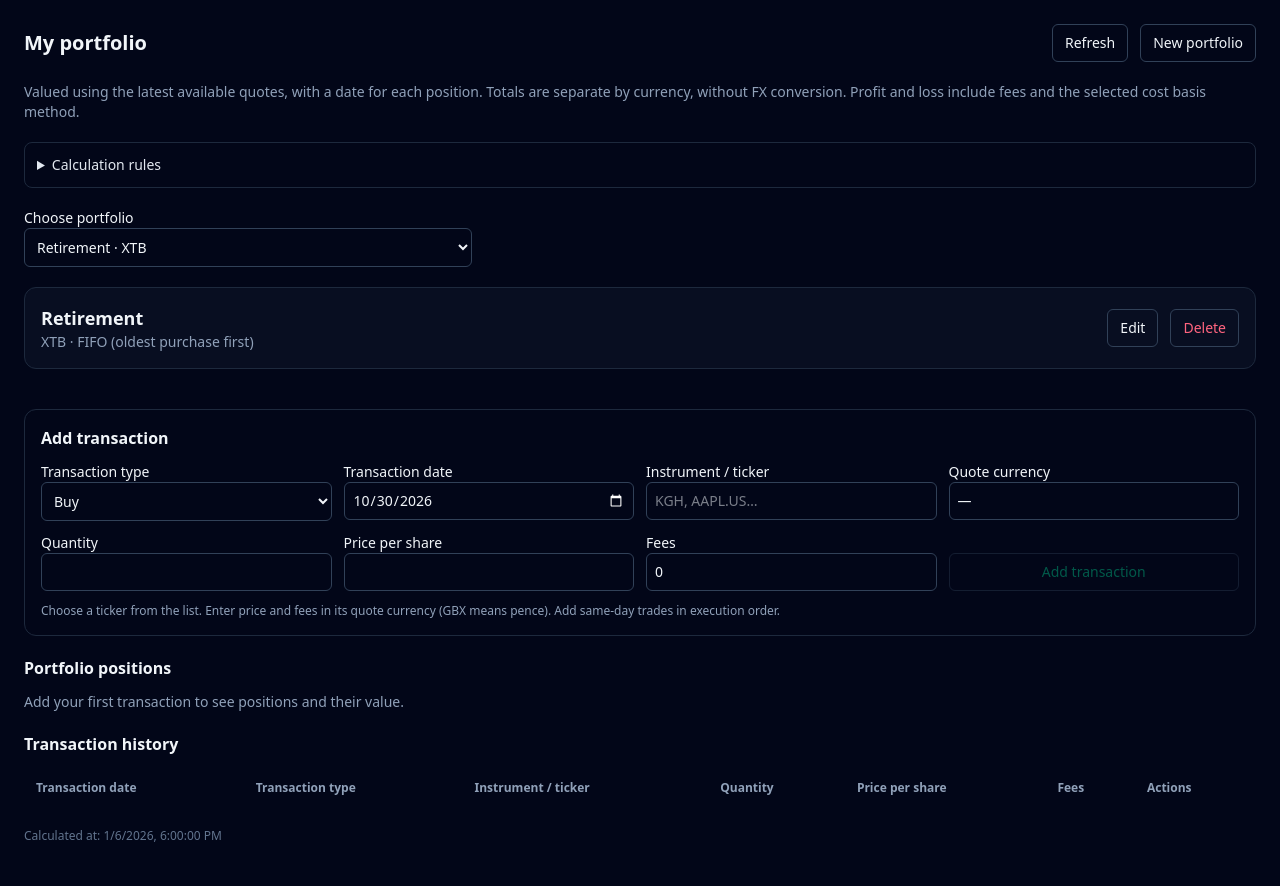
account portfolios › blocks writes when reloading a saved change fails, without reporting the write as failed
This screenshot has width=1280, height=886.
Type "kgh" into the field labelled "Instrument / ticker".
click(791, 501); type("kgh")  # box [646, 482, 936, 520]
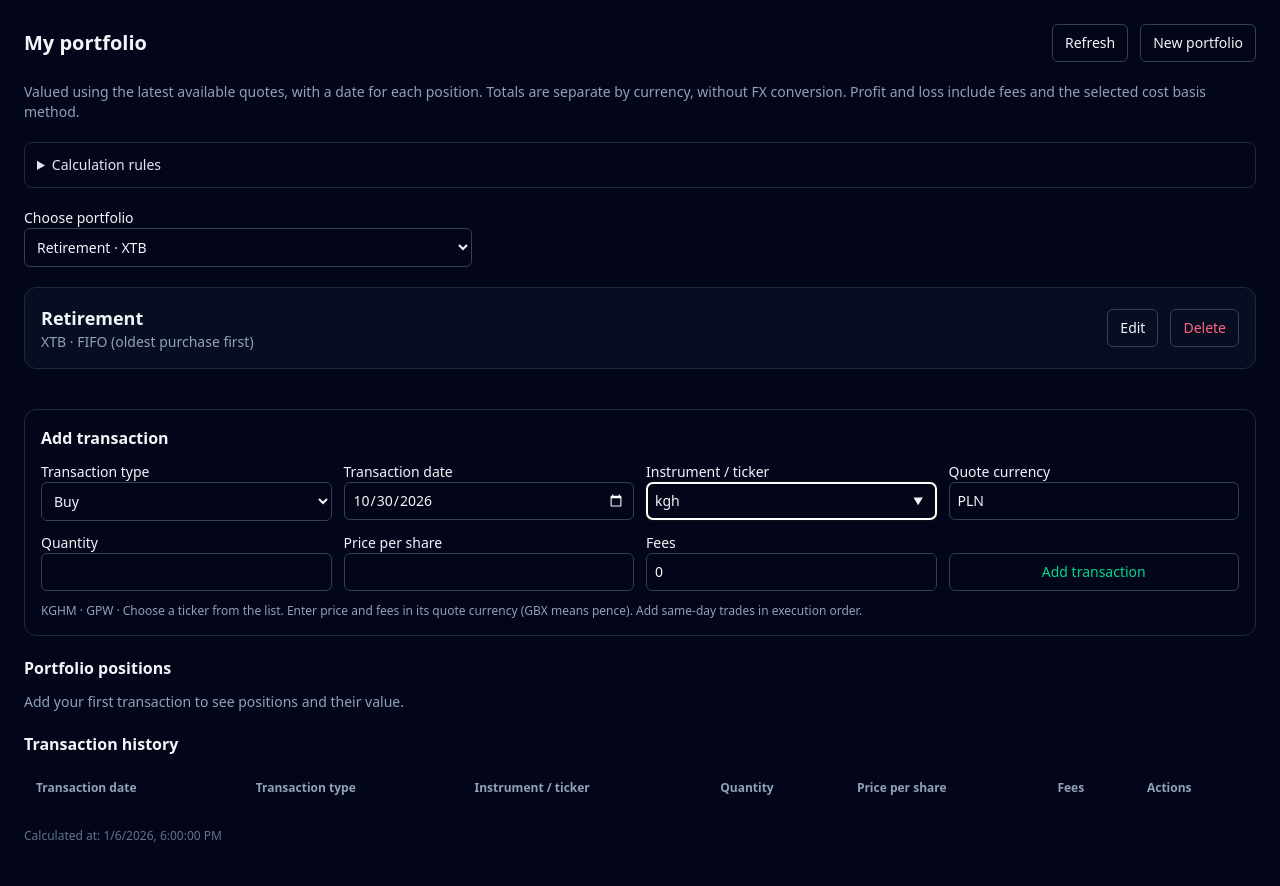
Type "2" into the number field labelled "Quantity".
click(186, 572); type("2")  # box [41, 553, 332, 591]
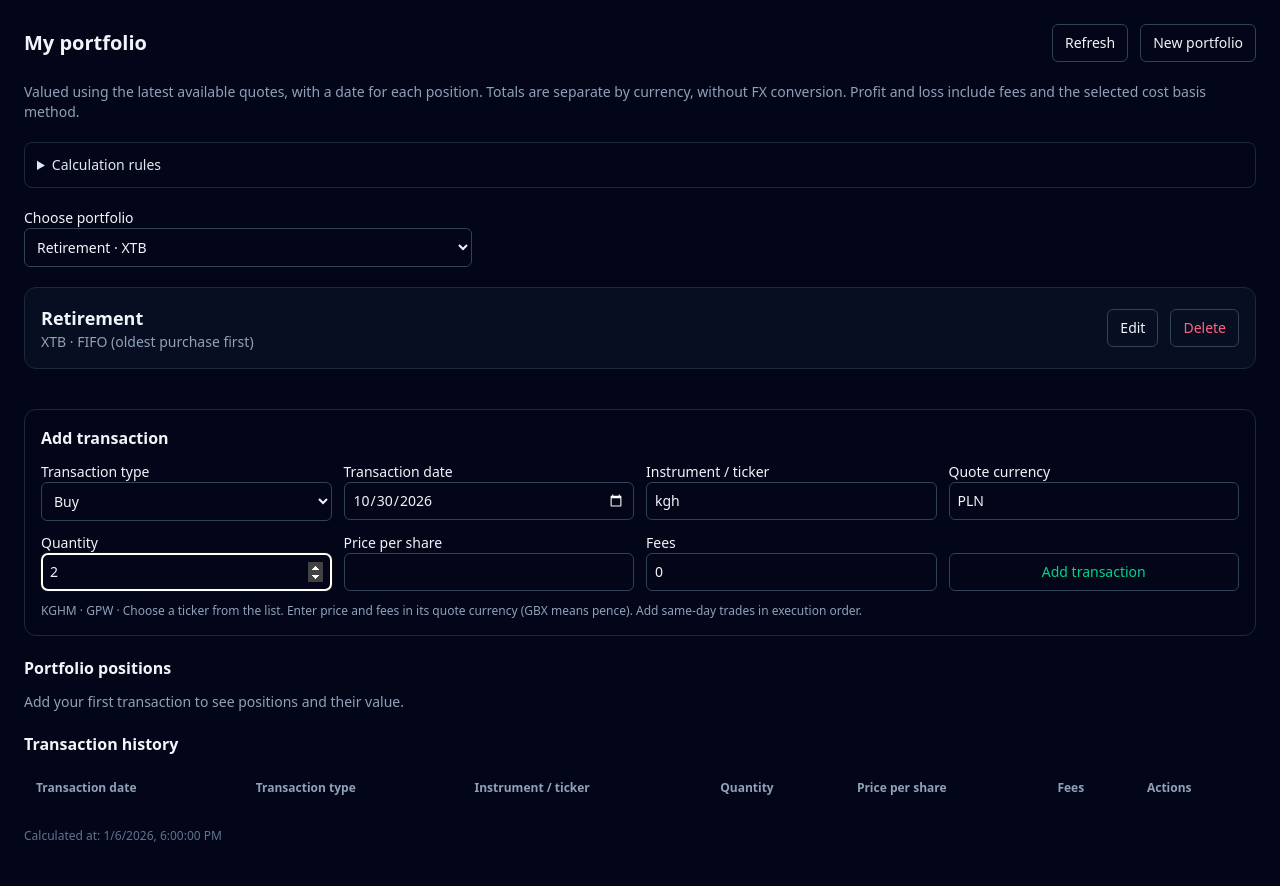
Type "100" into the number field labelled "Price per share".
click(489, 572); type("100")  # box [344, 553, 634, 591]
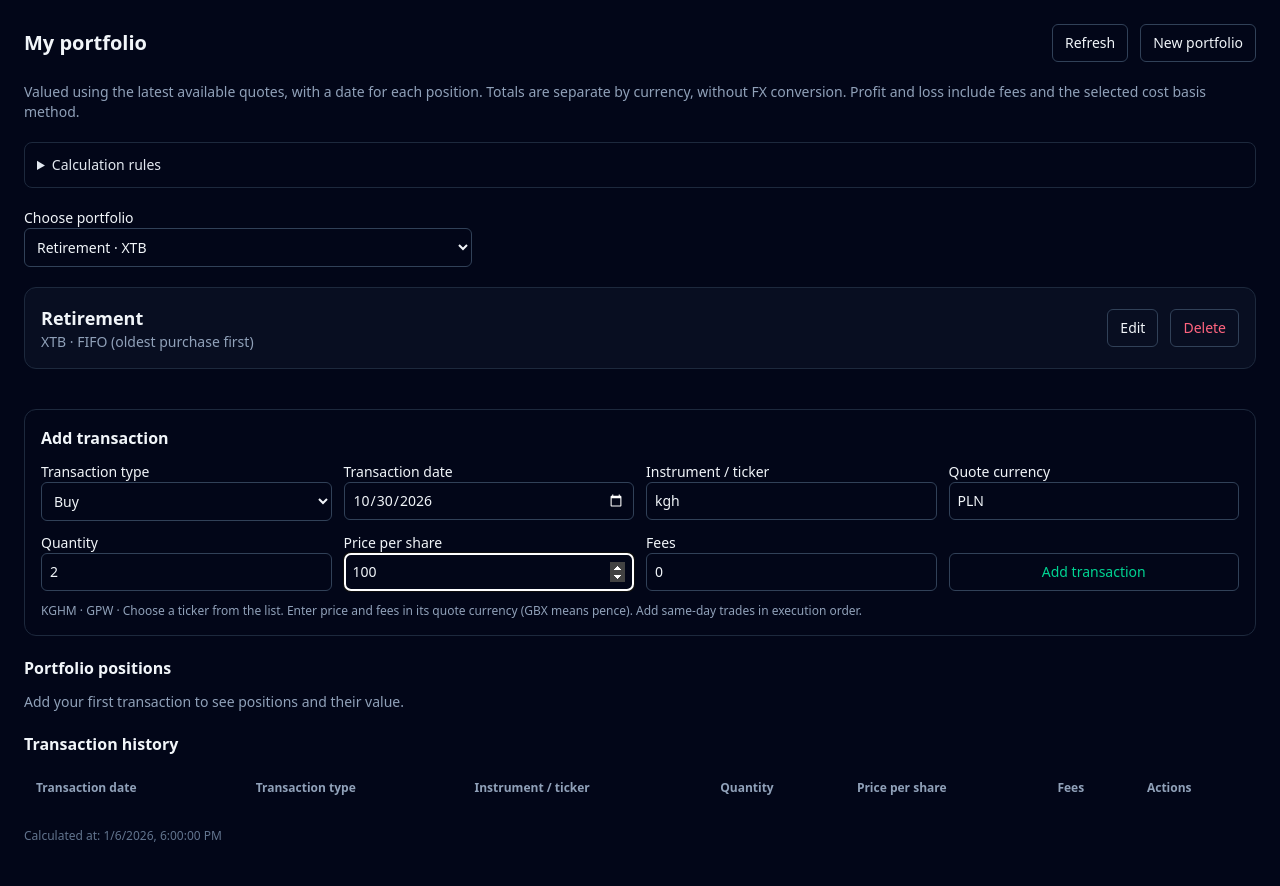
Click the button "Add transaction".
click(1094, 572)  # box [948, 553, 1239, 591]
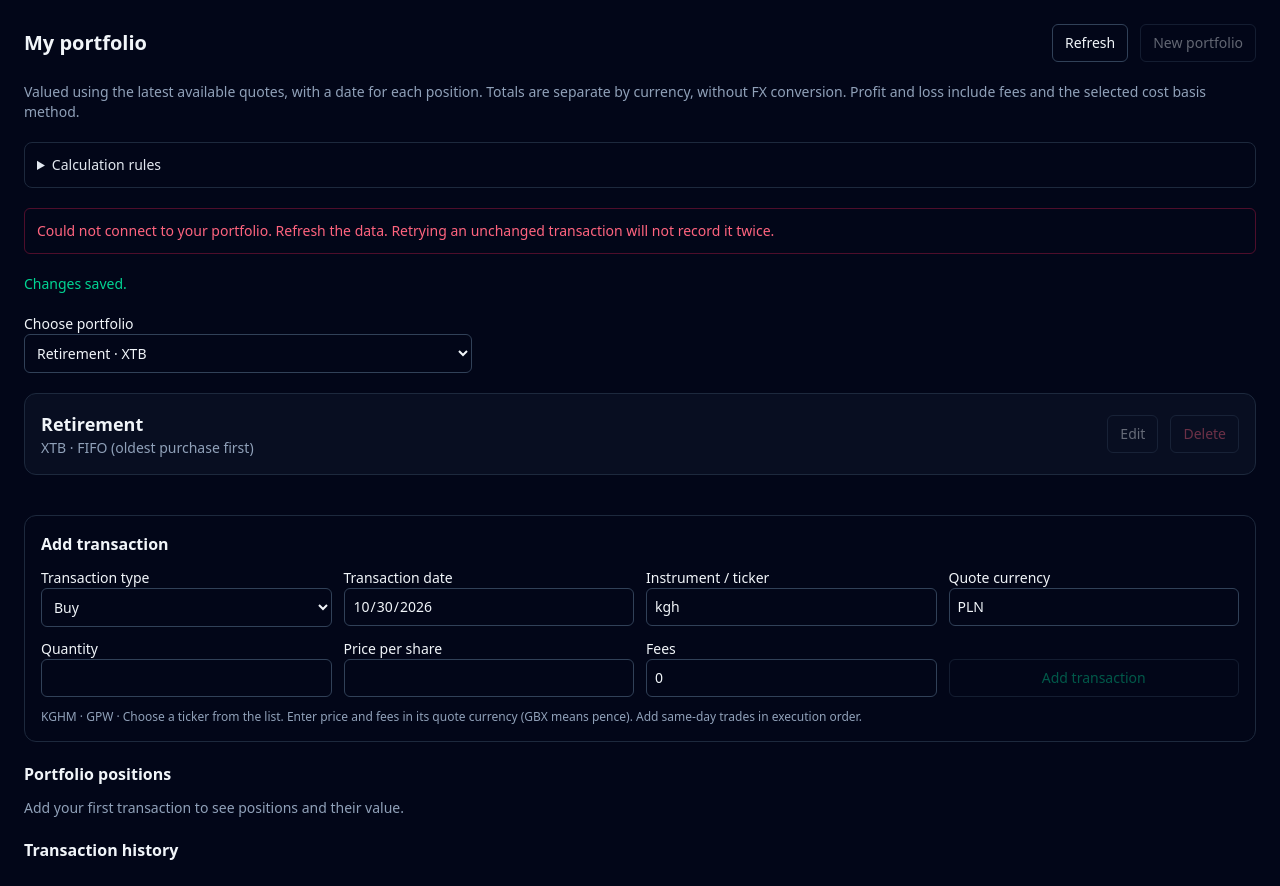
expect the text "Changes saved." is shown: met, box [24, 274, 127, 293]
expect the 1st message is shown: met, box [24, 208, 1256, 254]
expect the button "Add transaction" is disabled: met, box [948, 659, 1239, 697]
